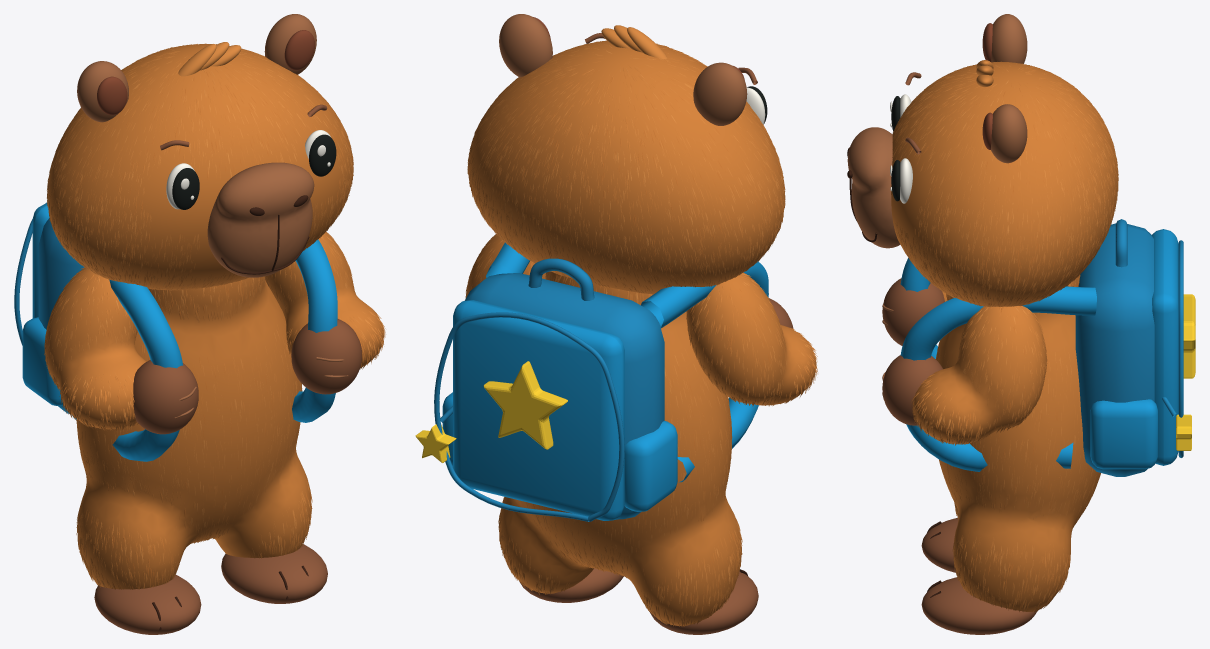
File: mascot.glb
3 renders of one model, left to right at view 1: azimuth 30°, elevation 25°; view 2: azimuth 150°, elevation 25°; view 3: azimuth 270°, elevation 25°, orthographic. The views are drawn at different scales.
Parts seen in each view (by area): view 1: body_sculpt, head_sculpt, head_sculpt_short_fur, arm_sculpt_-1, body_sculpt_short_fur, unified_snout, arm_sculpt_1, foot_1, backpack_strap_-1, foot_-1, hand_1, hand_-1 (+14 smaller); view 2: head_sculpt, body_sculpt, backpack_outer_face, head_sculpt_short_fur, arm_sculpt_-1, backpack_padded_body, body_sculpt_short_fur, backpack_side_pocket_-1, backpack_panel_piping, backpack_star, arm_sculpt_-1_short_fur, backpack_strap_-1 (+9 smaller); view 3: head_sculpt, body_sculpt, head_sculpt_short_fur, backpack_padded_body, arm_sculpt_1, body_sculpt_short_fur, backpack_strap_1, backpack_outer_face, backpack_side_pocket_1, unified_snout, foot_1, arm_sculpt_1_short_fur (+11 smaller).
Boxes of the visible parts, x1,y1,x2,y2 form: body_sculpt: [77, 276, 311, 589]; head_sculpt: [47, 44, 353, 290]; head_sculpt_short_fur: [47, 43, 353, 290]; arm_sculpt_-1: [45, 268, 146, 429]; body_sculpt_short_fur: [76, 276, 312, 589]; unified_snout: [207, 162, 314, 277]; arm_sculpt_1: [265, 231, 383, 367]; foot_1: [221, 544, 327, 603]; backpack_strap_-1: [72, 279, 182, 461]; foot_-1: [94, 574, 201, 634]; hand_1: [291, 319, 361, 394]; hand_-1: [133, 360, 198, 434]; head_sculpt: [468, 40, 784, 294]; body_sculpt: [499, 271, 741, 625]; backpack_outer_face: [453, 300, 624, 520]; head_sculpt_short_fur: [467, 40, 785, 293]; arm_sculpt_-1: [686, 272, 816, 405]; backpack_padded_body: [464, 273, 664, 519]; body_sculpt_short_fur: [498, 271, 742, 626]; backpack_side_pocket_-1: [624, 421, 677, 511]; backpack_panel_piping: [434, 312, 624, 521]; backpack_star: [483, 361, 567, 449]; arm_sculpt_-1_short_fur: [686, 273, 817, 406]; backpack_strap_-1: [641, 261, 768, 482]; head_sculpt: [891, 62, 1118, 306]; body_sculpt: [936, 275, 1100, 611]; head_sculpt_short_fur: [892, 61, 1118, 306]; backpack_padded_body: [1075, 223, 1154, 476]; arm_sculpt_1: [913, 306, 1046, 443]; body_sculpt_short_fur: [936, 275, 1100, 612]; backpack_strap_1: [900, 286, 1096, 471]; backpack_outer_face: [1152, 229, 1178, 465]; backpack_side_pocket_1: [1090, 399, 1157, 469]; unified_snout: [847, 127, 900, 248]; foot_1: [921, 577, 1036, 634]; arm_sculpt_1_short_fur: [910, 306, 1047, 445].
Bounding box in the file's own units: 1.08 × 1.85 × 1.08.
